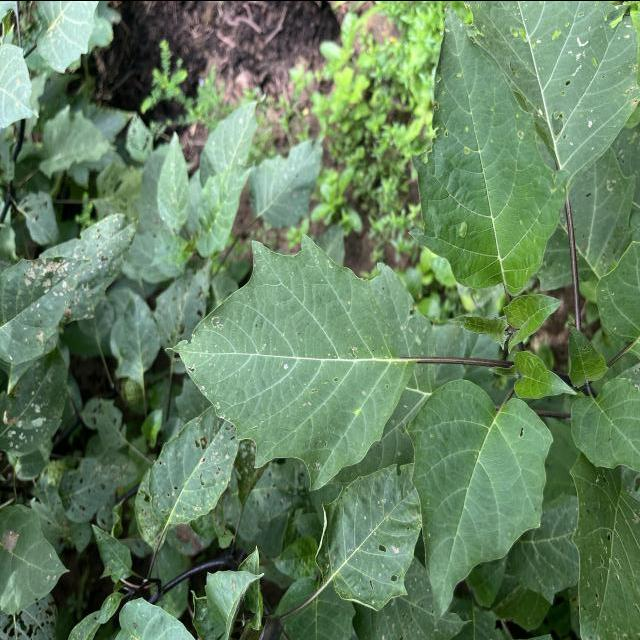Datura metal linn: (161, 229, 426, 494), (404, 1, 572, 296), (400, 373, 557, 628), (500, 290, 566, 356), (510, 348, 580, 402)
